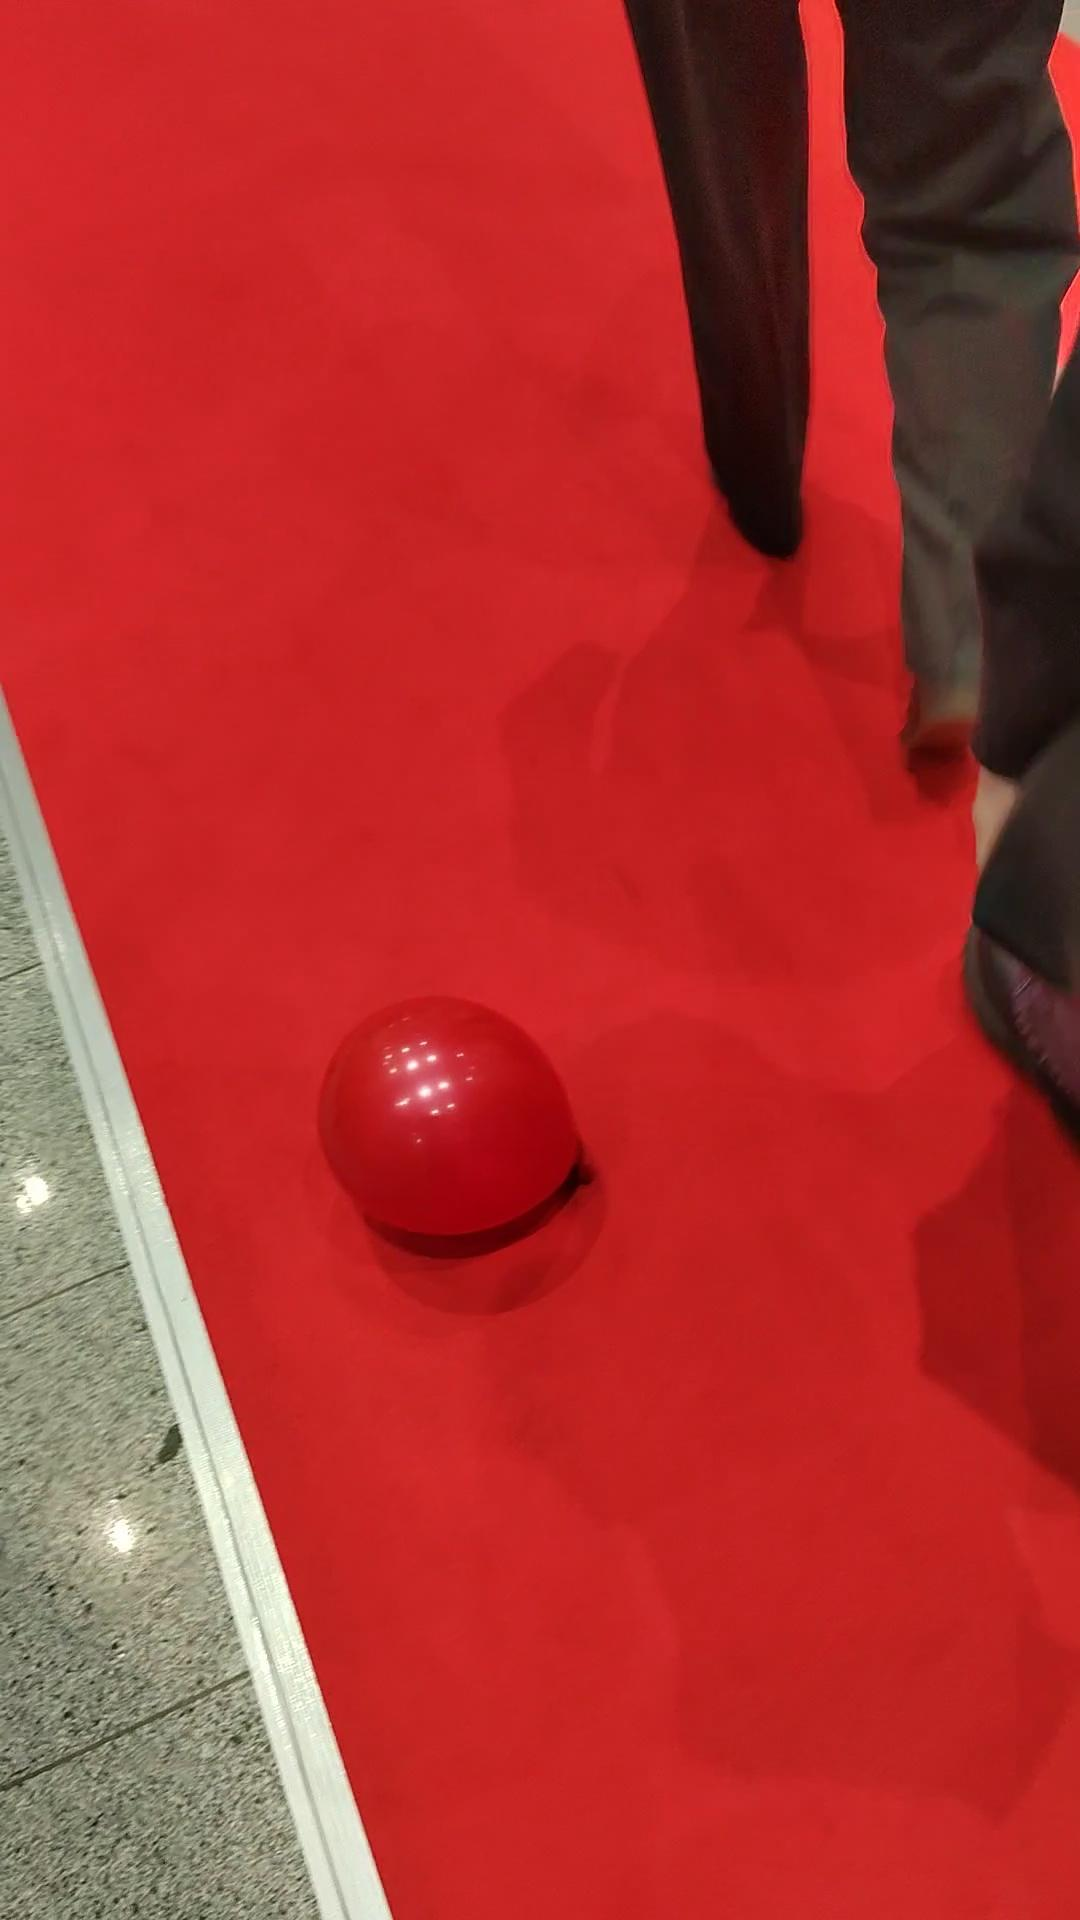red: (318, 994, 579, 1238)
